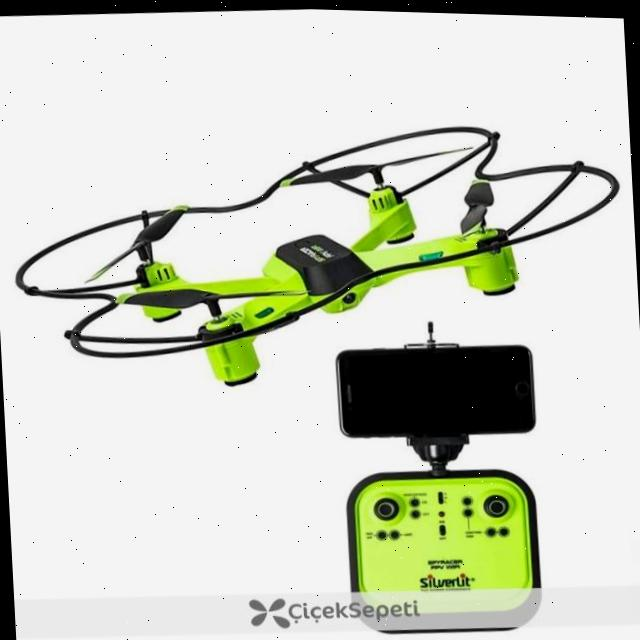drone: (15, 108, 638, 377)
